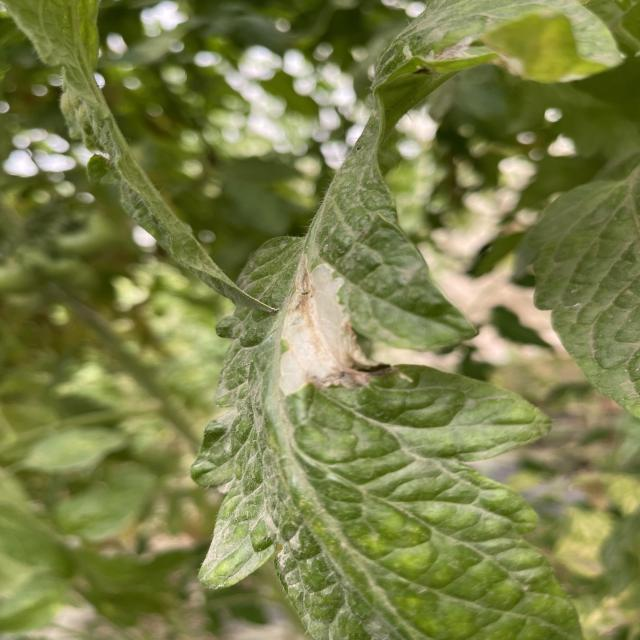Tuta absoluta: (233, 240, 393, 417)
